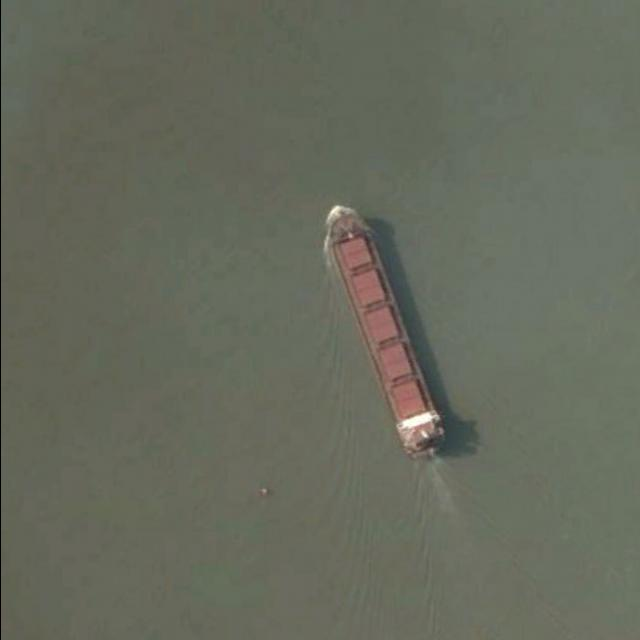ship: (322, 205, 450, 468)
